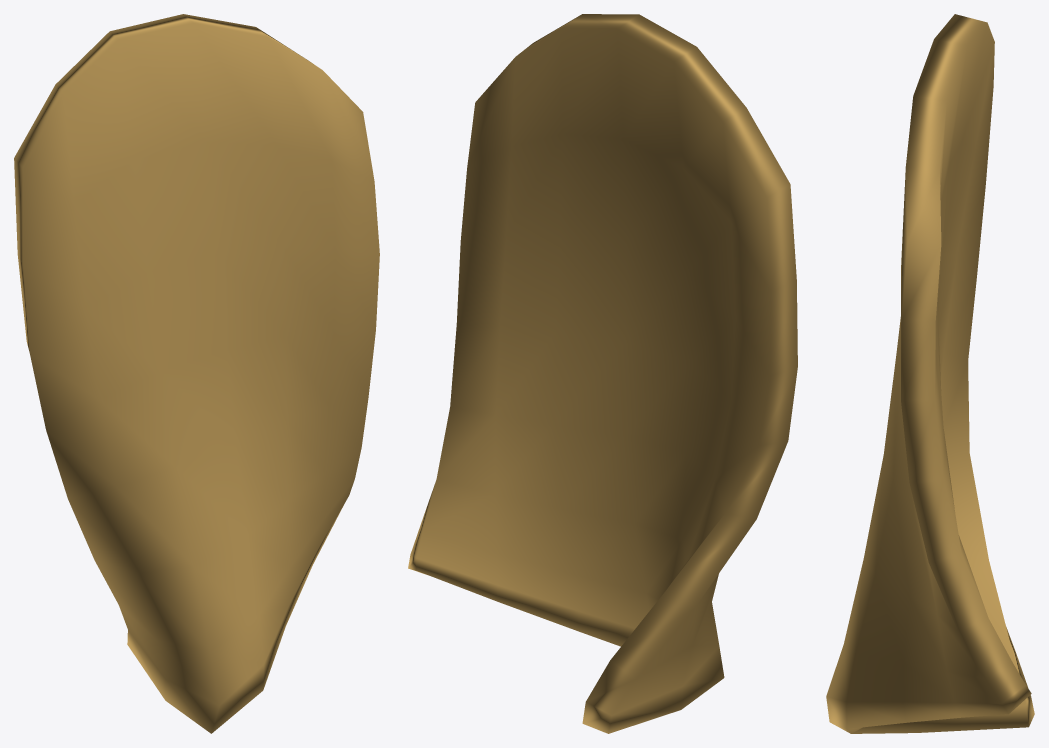
3 renders of one model, left to right at view 1: azimuth 30°, elevation 25°; view 2: azimuth 150°, elevation 25°; view 3: azimuth 270°, elevation 25°, orthographic. The views are drawn at different scales.
Parts seen in each view (by area): view 1: 左侧外侧半月板前半月板胫骨韧带; view 2: 左侧外侧半月板前半月板胫骨韧带; view 3: 左侧外侧半月板前半月板胫骨韧带.
Boxes of the visible parts, x1,y1,x2,y2 form: 左侧外侧半月板前半月板胫骨韧带: (14,14,379,733); 左侧外侧半月板前半月板胫骨韧带: (408,14,797,733); 左侧外侧半月板前半月板胫骨韧带: (826,14,1034,733).
Bounding box in the file's own units: 0.00912 × 0.0167 × 0.0045.
